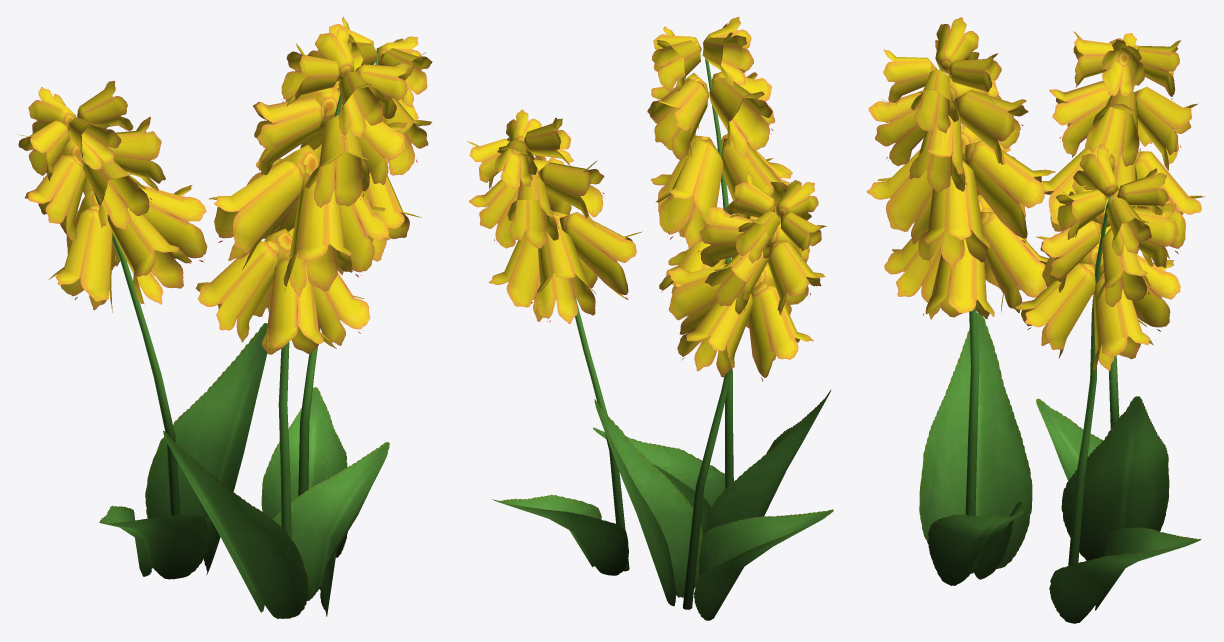
The model's file is Flower_4_Group.glb.
3 renders of one model, left to right at view 1: azimuth 30°, elevation 25°; view 2: azimuth 150°, elevation 25°; view 3: azimuth 270°, elevation 25°, orthographic. The views are drawn at different scales.
Visible parts, largest first — view 1: Flower_4_Group; view 2: Flower_4_Group; view 3: Flower_4_Group.
Boxes of the visible parts, box(x1,y1,x2,y2) form: Flower_4_Group: box(17, 17, 432, 618); Flower_4_Group: box(467, 17, 833, 620); Flower_4_Group: box(866, 17, 1205, 623).
Bounding box in the file's own units: 1.78 × 2.49 × 1.37.
Materials: 2 (2 with a texture image).
